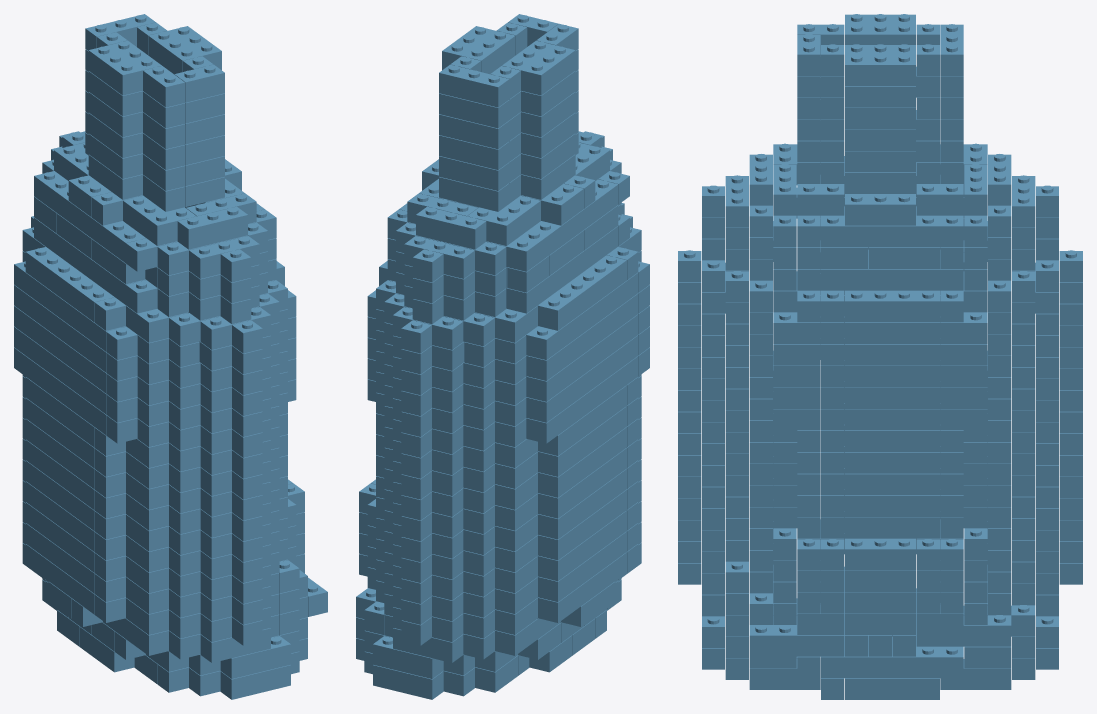
File: 207_pot_L2.glb
3 renders of one model, left to right at view 1: azimuth 30°, elevation 25°; view 2: azimuth 150°, elevation 25°; view 3: azimuth 270°, elevation 25°, orthographic. The views are drawn at different scales.
Size of the model in its own units: 9.98 by 28.13 by 16.98.
